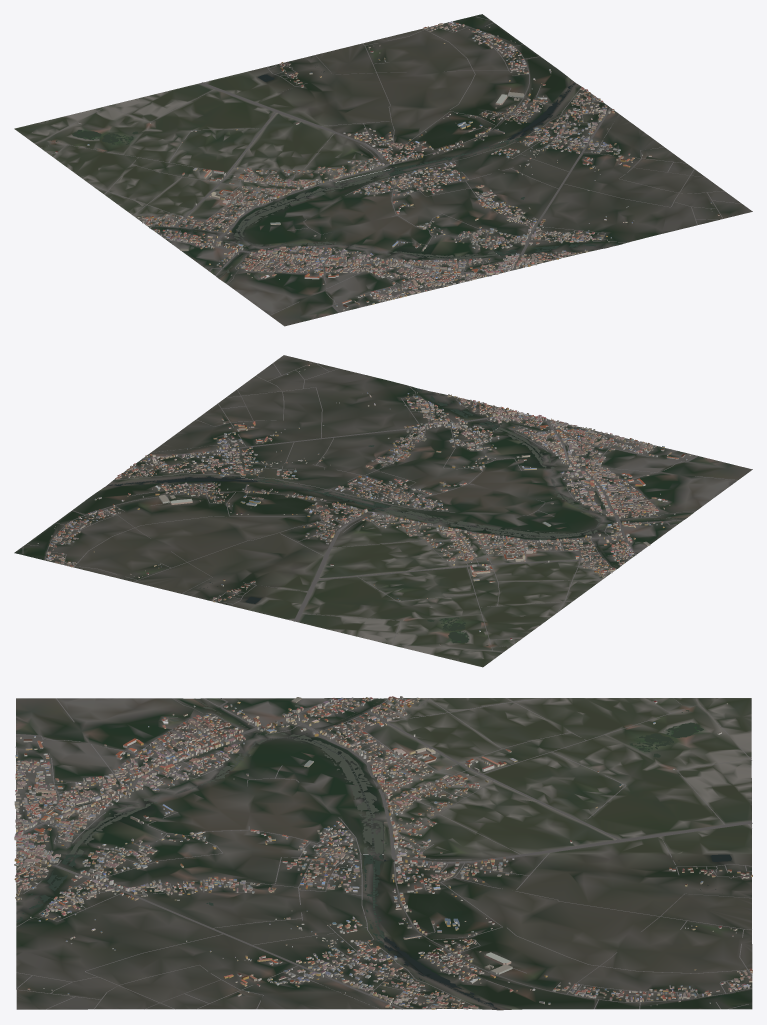
3 views of the same model, one above another, from view 1: azimuth 30°, elevation 25°; view 2: azimuth 150°, elevation 25°; view 3: azimuth 270°, elevation 25° (orthographic). The views are drawn at different scales.
Visible parts, largest first — view 1: ground, buildings, roads, water; view 2: ground, buildings, roads, water; view 3: ground, buildings, roads, water.
Part boxes in pixels (left/top/right/bottom): ground: left=14, top=14, right=752, bottom=326; buildings: left=31, top=21, right=719, bottom=310; roads: left=44, top=16, right=741, bottom=315; water: left=51, top=71, right=619, bottom=278; ground: left=14, top=355, right=752, bottom=667; buildings: left=37, top=364, right=690, bottom=658; roads: left=22, top=362, right=737, bottom=652; water: left=107, top=388, right=687, bottom=645; ground: left=16, top=698, right=752, bottom=1010; buildings: left=14, top=696, right=752, bottom=1009; roads: left=15, top=698, right=752, bottom=1009; water: left=16, top=698, right=731, bottom=1009.
Size of the model in its own units: 2817 by 25.62 by 2816.
